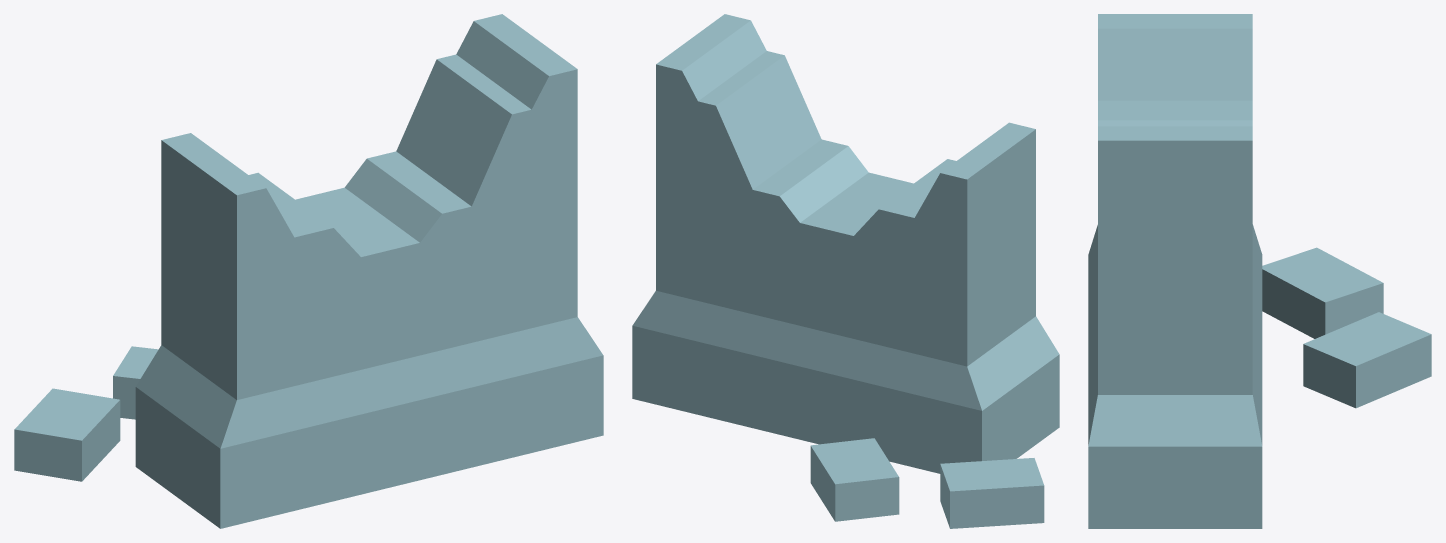
The model's file is d_kenney_pierre_tombale_brisee.glb.
3 renders of one model, left to right at view 1: azimuth 30°, elevation 25°; view 2: azimuth 150°, elevation 25°; view 3: azimuth 270°, elevation 25°, orthographic. The views are drawn at different scales.
Parts seen in each view (by area): view 1: d_kenney_pierre_tombale_brisee; view 2: d_kenney_pierre_tombale_brisee; view 3: d_kenney_pierre_tombale_brisee.
Boxes of the visible parts, bbox=[...] form: d_kenney_pierre_tombale_brisee: bbox=[14, 14, 603, 528]; d_kenney_pierre_tombale_brisee: bbox=[632, 14, 1059, 528]; d_kenney_pierre_tombale_brisee: bbox=[1088, 14, 1431, 528].
Size of the model in its own units: 0.4864 by 0.3581 by 0.2949.
1 material, 1 textured.
